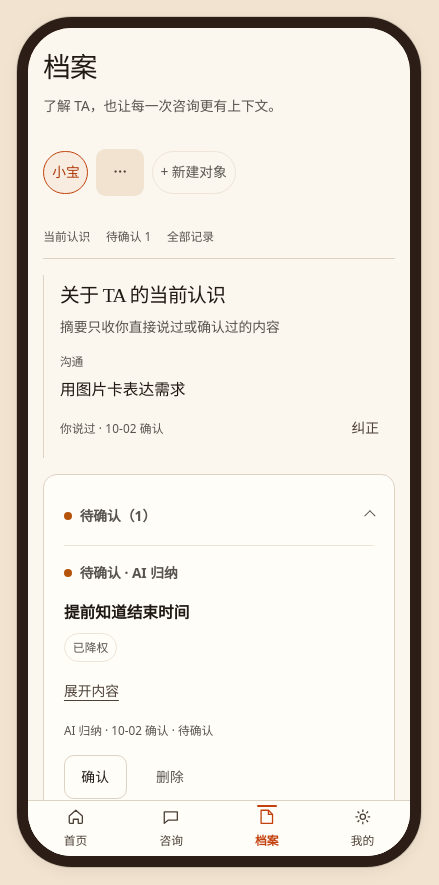
Test: 档案页 · 加载与候选层不变量 › P0 候选 + 已降权：该行只出现一处「已降权」标，且元信息行不含时效措辞（档案页第 23、25、33 行）
Expected: the text "出行前先说清流程" is not shown
Click the button "展开内容".
click(91, 691)  # box [64,670,374,713]
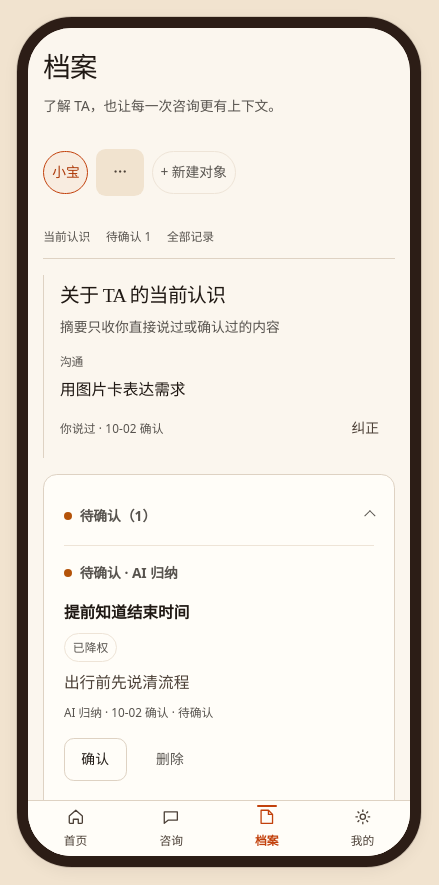
Expected: the text "出行前先说清流程" is shown, [64,671,189,693]
